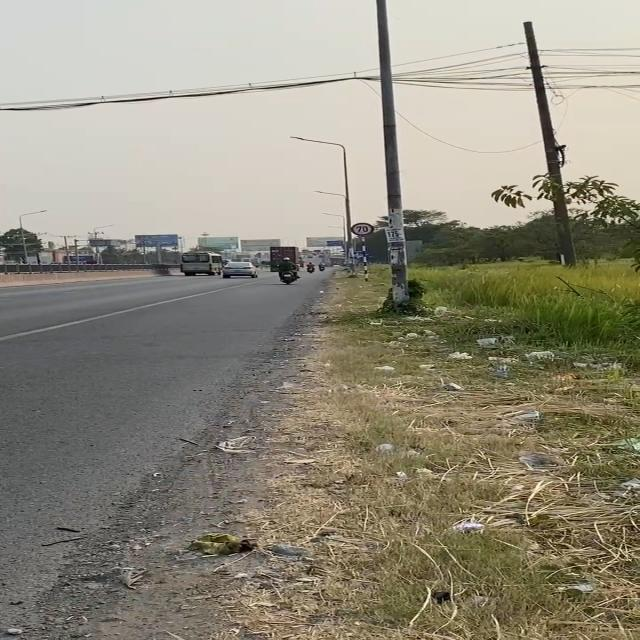127-toc-do-toi-da-70: (351, 222, 376, 236)
